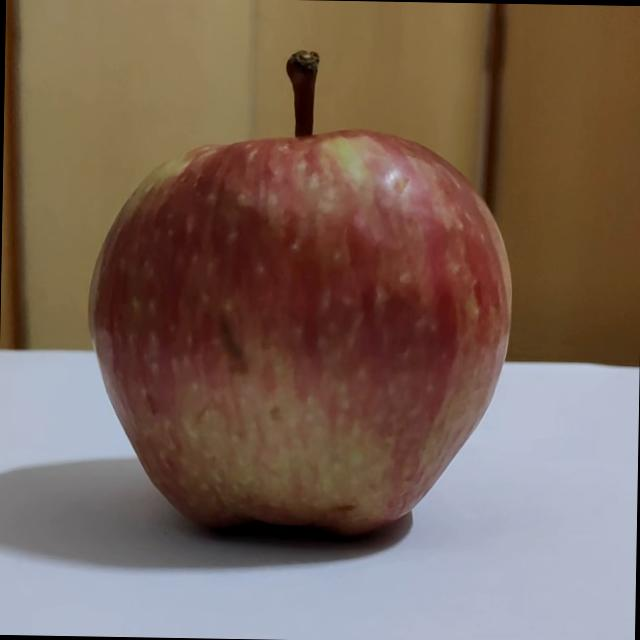apple: (65, 41, 520, 544)
